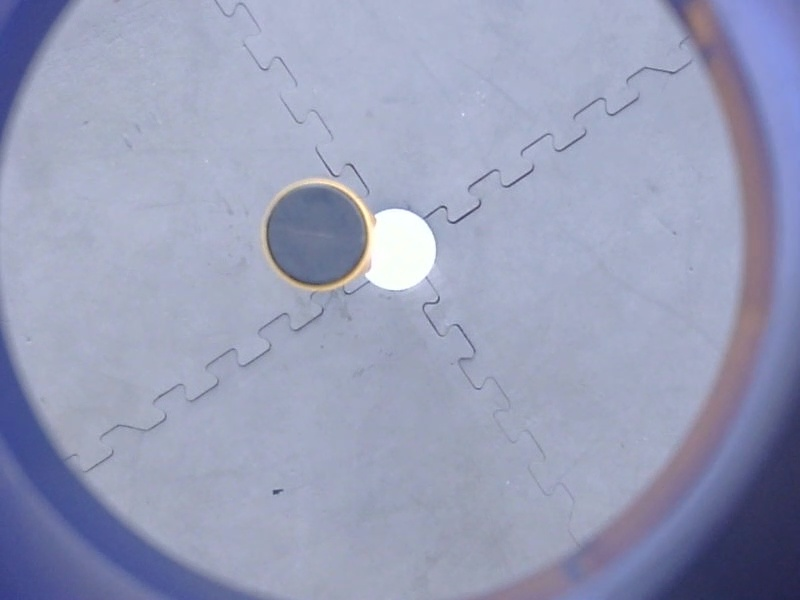tip: (256, 172, 377, 297)
